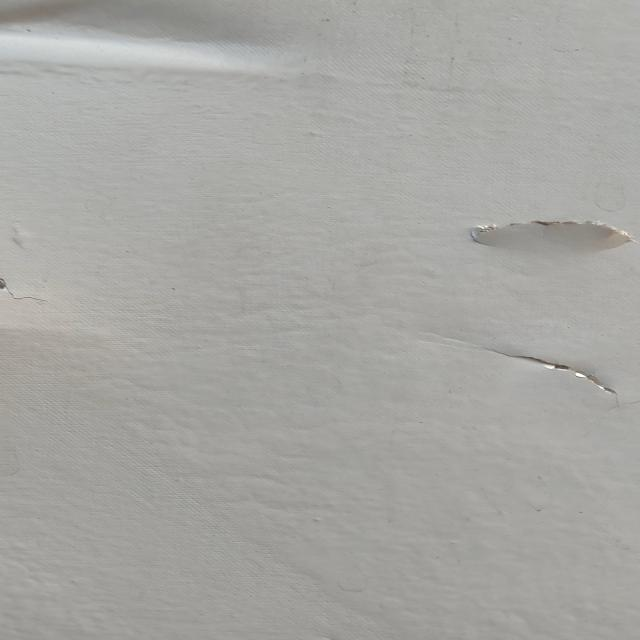Dents or Deformation: (1, 1, 344, 90)
Scratches: (420, 320, 640, 406), (425, 193, 640, 260)
